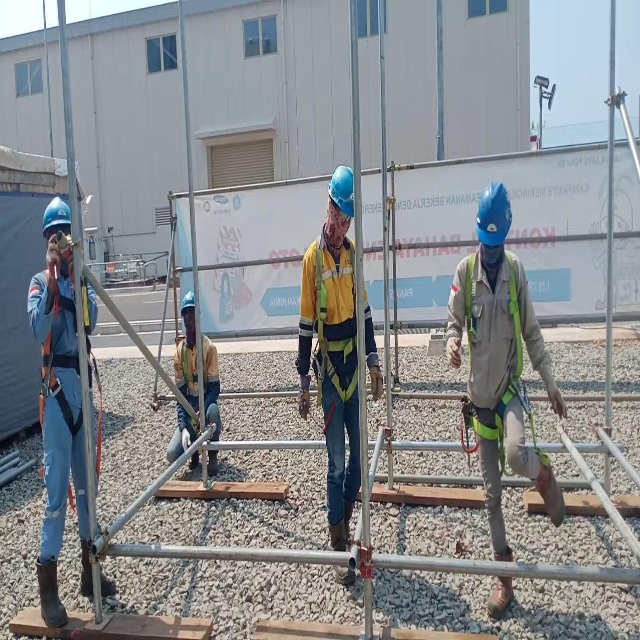Arnes_seguridad: (461, 246, 550, 485), (35, 261, 103, 511), (310, 232, 361, 401), (180, 330, 210, 450)
